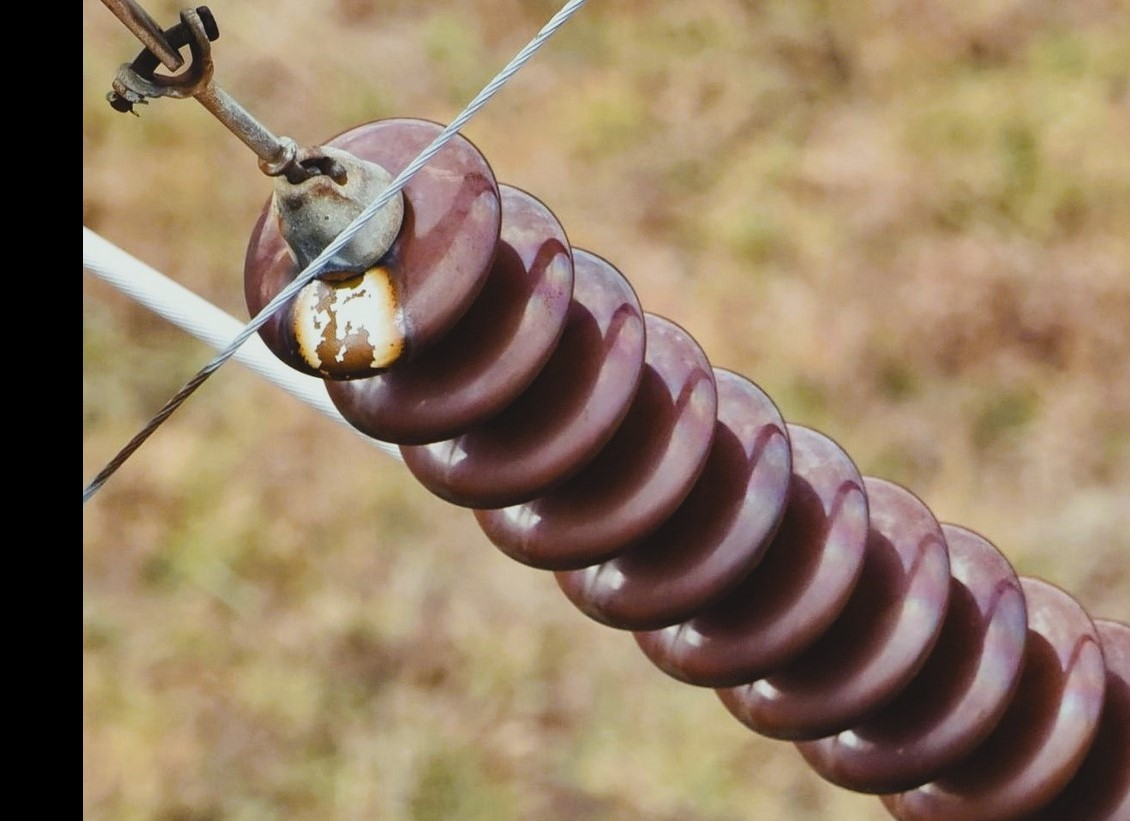Insulator flashover: (233, 113, 510, 389)
